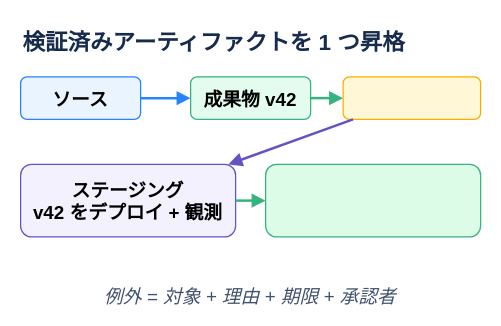
This 501x326 diagram has some shape labels left out. Here are the shapes that lost their labels. From the top down, the centre of each, then its label:
At (411,97): "テスト証拠".
At (372,200): "本番 同じ v42 を昇格".
